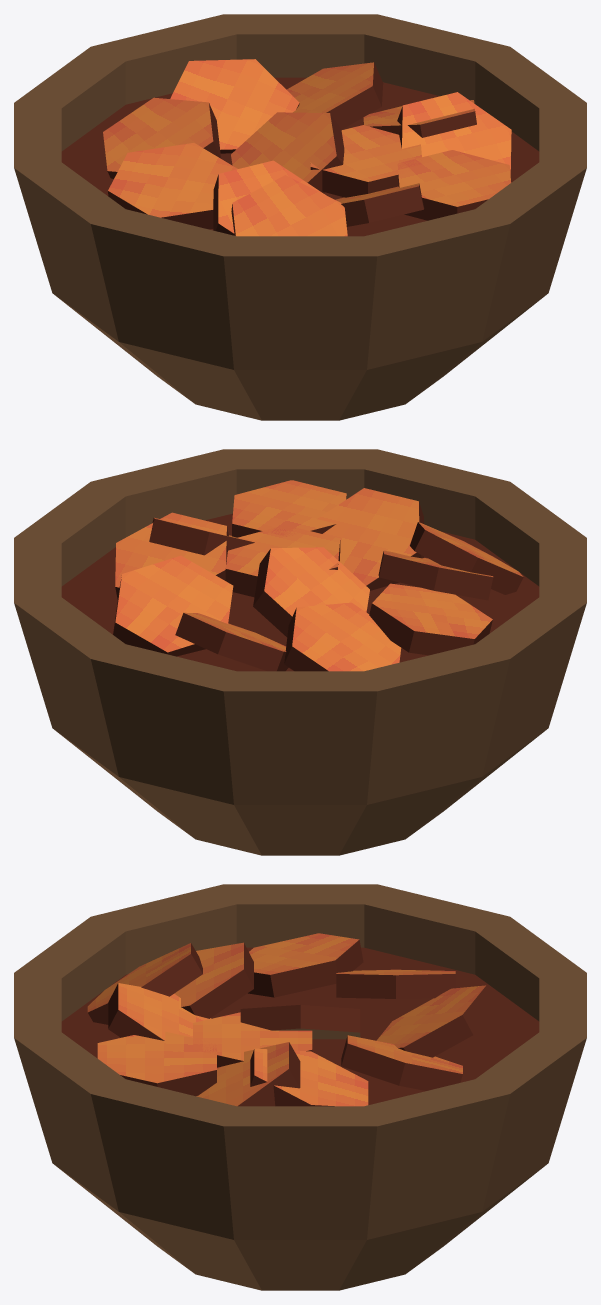
File: roasted_carrot.glb
3 views of the same model, one above another, from view 1: azimuth 30°, elevation 25°; view 2: azimuth 150°, elevation 25°; view 3: azimuth 270°, elevation 25° (orthographic).
Visible parts, largest first — view 1: sphere, cylinder (×12); view 2: sphere, cylinder (×12); view 3: sphere, cylinder (×12).
Boxes of the visible parts, <box> form: sphere: <box>14,14,586,420</box>; cylinder (×12): <box>103,59,511,236</box>; sphere: <box>14,449,586,855</box>; cylinder (×12): <box>113,480,523,671</box>; sphere: <box>14,884,586,1290</box>; cylinder (×12): <box>87,933,497,1106</box>.
Size of the model in its own units: 0.75 by 0.4002 by 0.75.
1 material, 1 textured.
